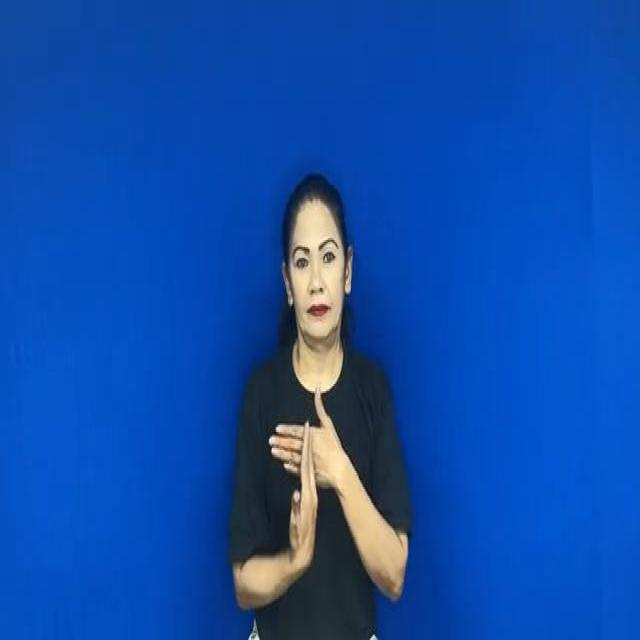bread: (266, 405, 351, 583)
